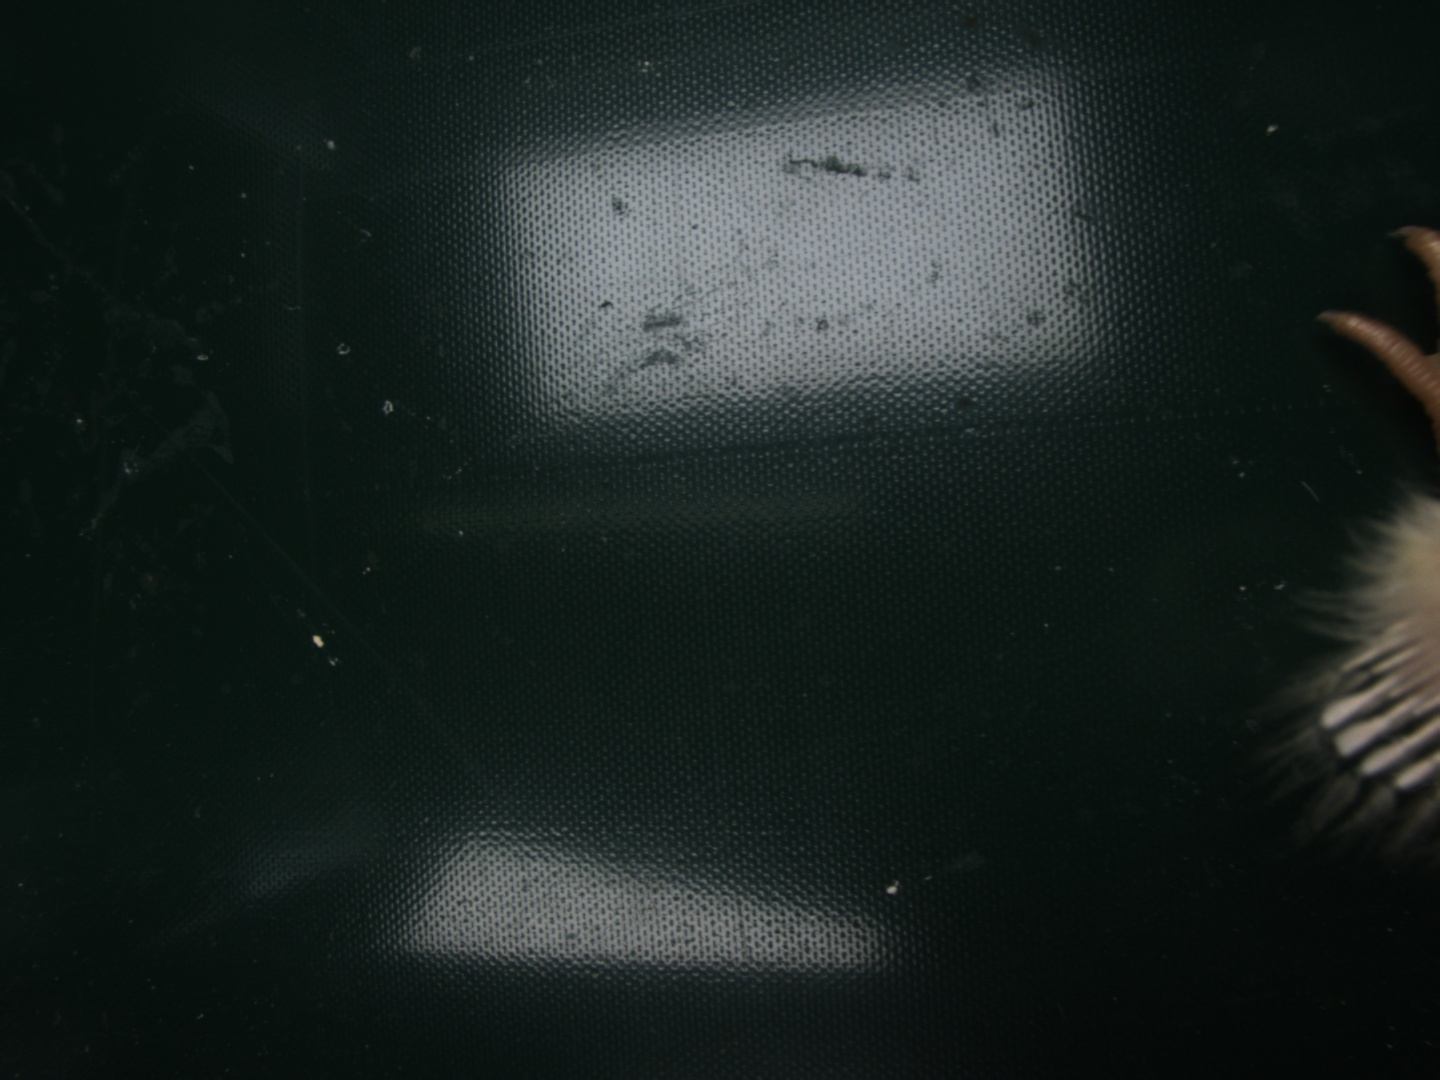female: (1325, 610, 1440, 795)
